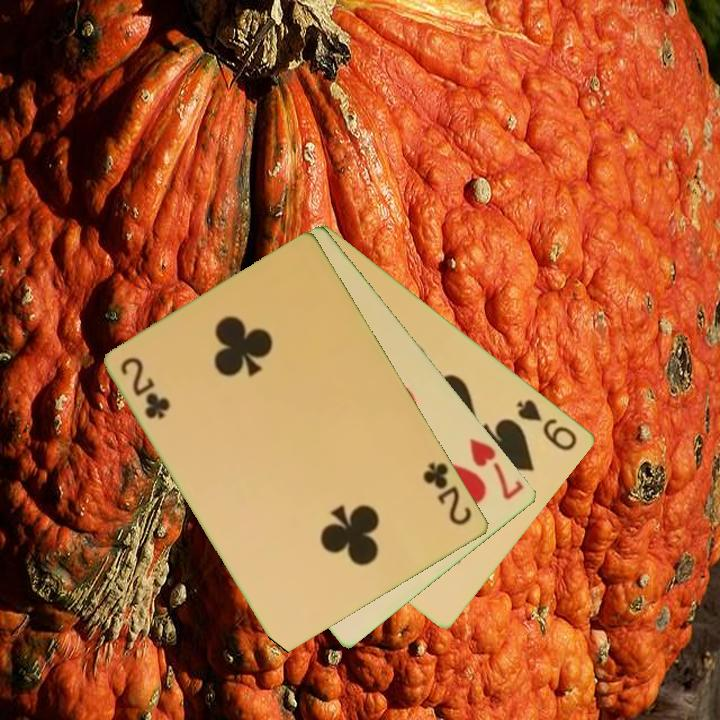2c: (419, 458, 476, 529), (117, 353, 174, 423)
7h: (466, 434, 528, 503)
9s: (513, 395, 581, 454)
